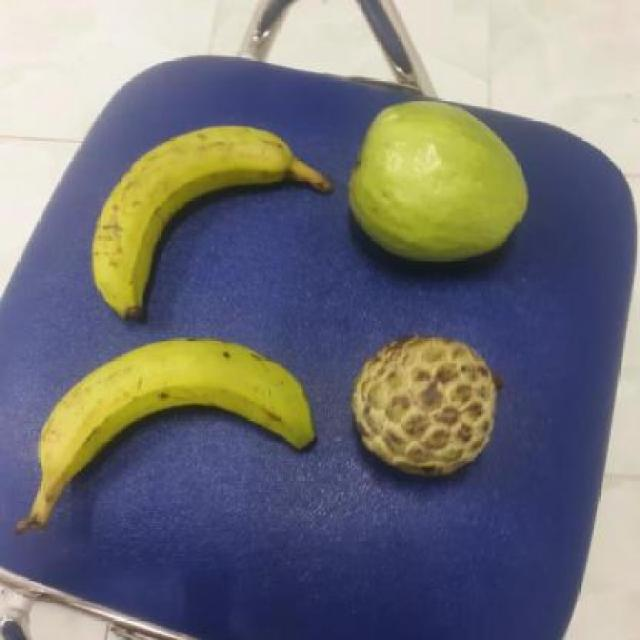banana: (38, 342, 330, 512), (94, 126, 341, 322)
guava: (347, 94, 531, 261)
sugar apple: (353, 334, 513, 478)
